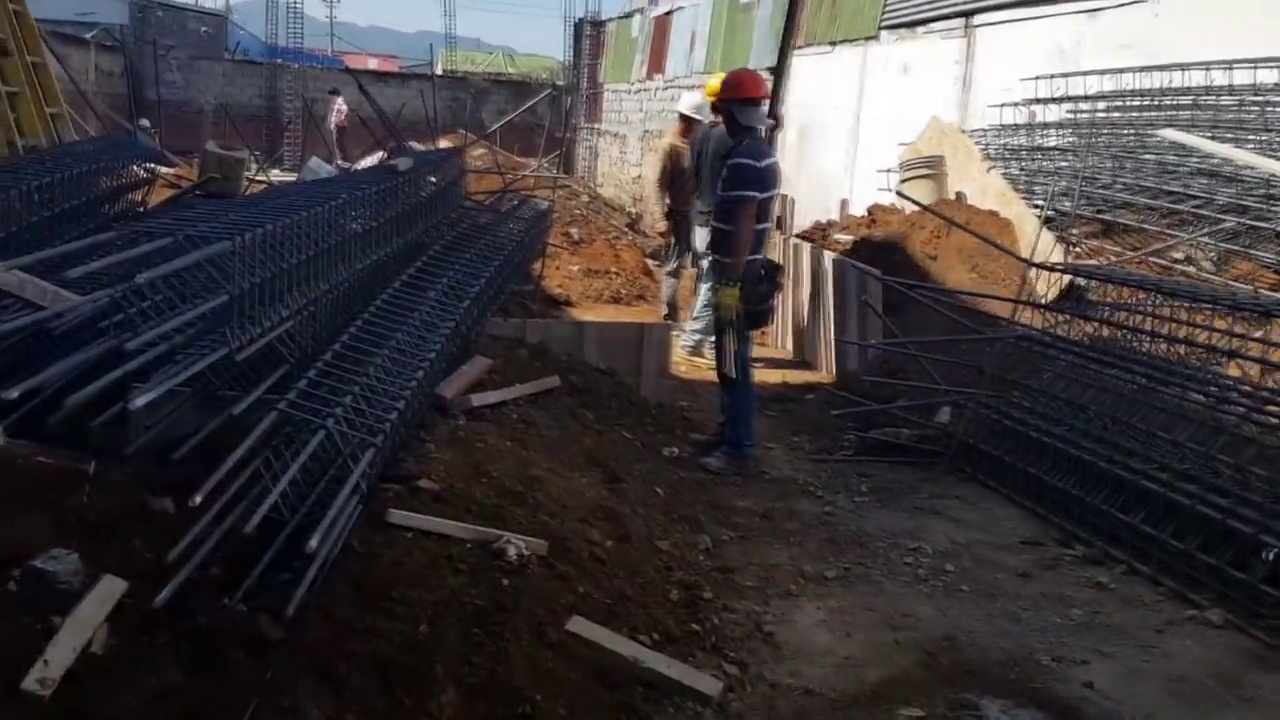helmet: (711, 68, 770, 110), (674, 89, 710, 125)
helmet-off: (326, 86, 341, 102)
helmet-on: (710, 66, 770, 146), (673, 88, 713, 141)
person: (681, 60, 779, 474), (644, 89, 708, 328), (324, 87, 352, 164)
